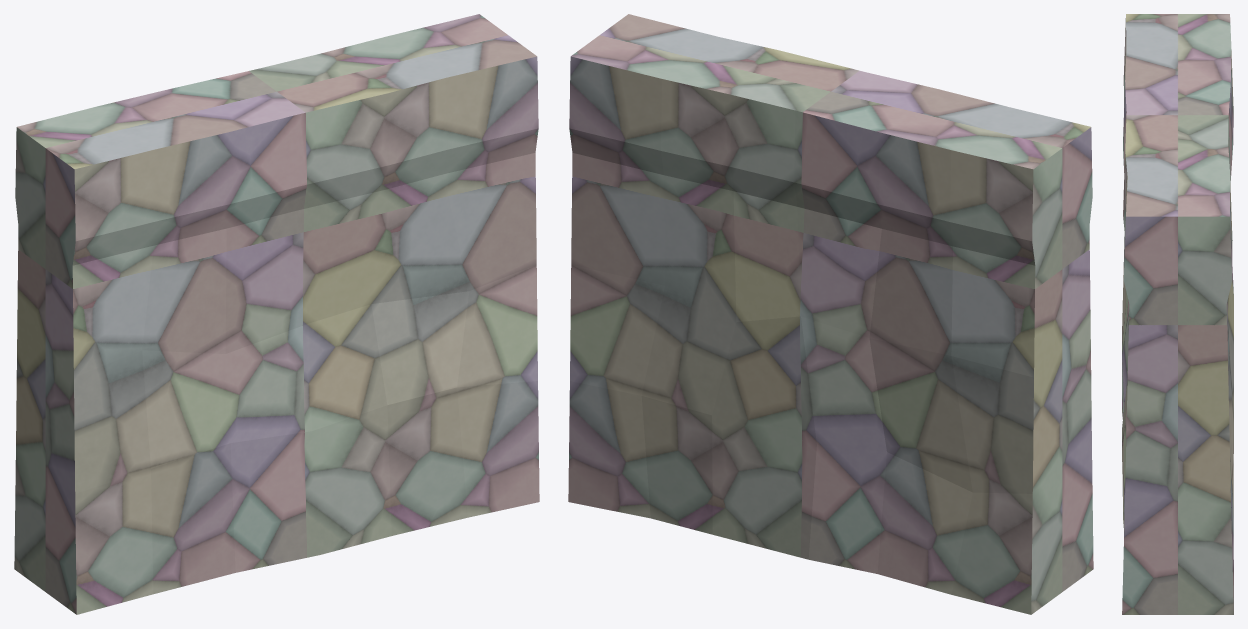
3 renders of one model, left to right at view 1: azimuth 30°, elevation 25°; view 2: azimuth 150°, elevation 25°; view 3: azimuth 270°, elevation 25°, orthographic. The views are drawn at different scales.
Visible parts, largest first — view 1: 돌담_얇음; view 2: 돌담_얇음; view 3: 돌담_얇음.
Boxes of the visible parts, x1,y1,x2,y2 form: 돌담_얇음: (14,14,539,614); 돌담_얇음: (568,14,1093,614); 돌담_얇음: (1122,14,1233,614).
Bounding box in the file's own units: 600 × 550 × 140.
Materials: 1 (1 with a texture image).
